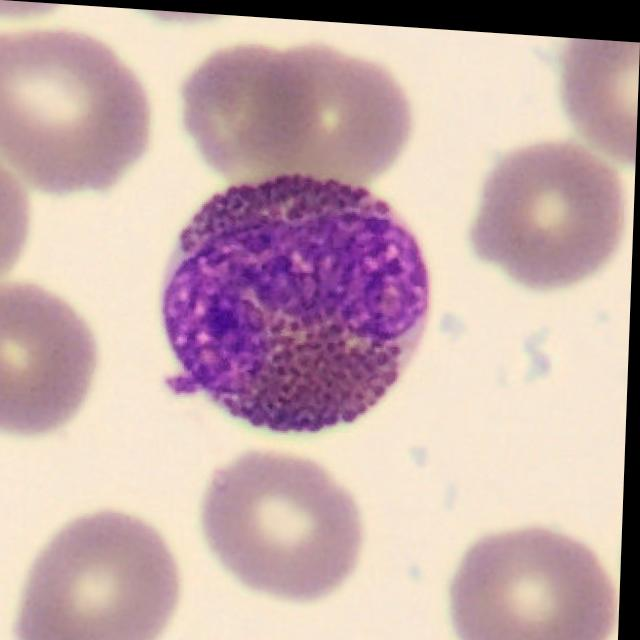Eosinofilo: (163, 167, 435, 428)
